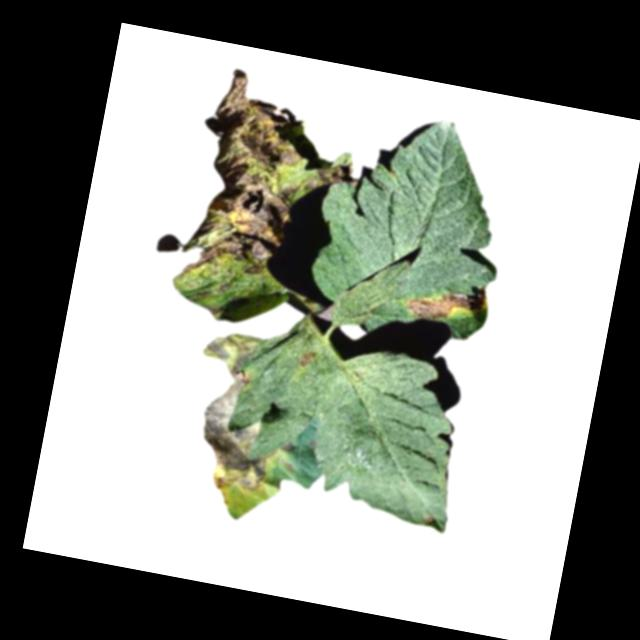Early_blight: (180, 65, 315, 292), (196, 375, 290, 497), (195, 325, 263, 381), (407, 278, 474, 325), (315, 157, 361, 191), (295, 346, 320, 370), (277, 454, 298, 476), (422, 511, 437, 528), (280, 439, 294, 452)
